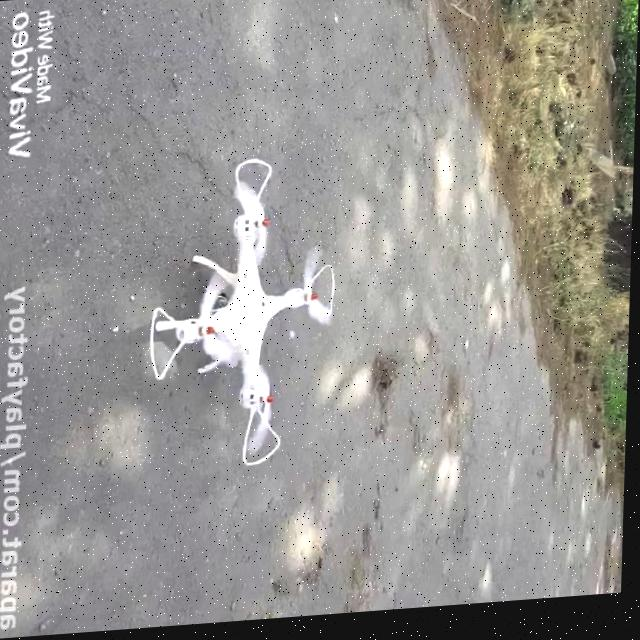drone: (144, 155, 344, 484)
